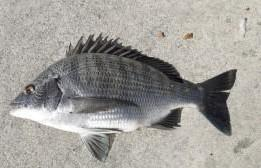fish: (9, 30, 239, 163)
